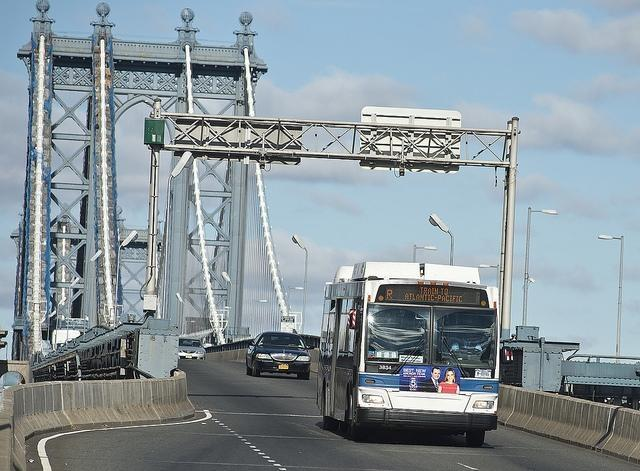bus: (318, 260, 516, 451)
car: (246, 335, 310, 380), (178, 336, 206, 360)
